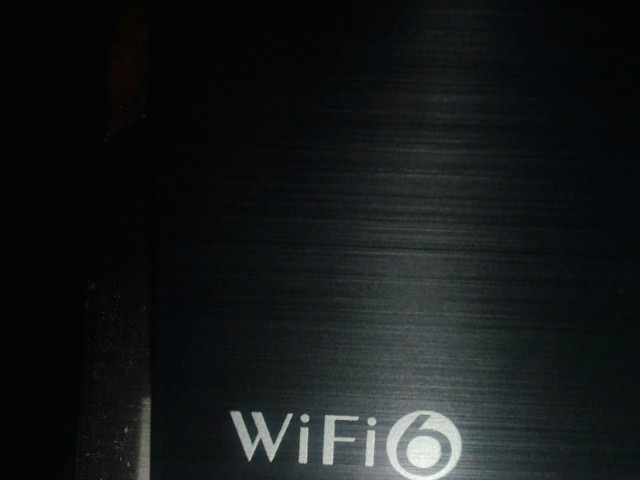AK_ZTEWIFI6Black: (223, 399, 469, 479)
